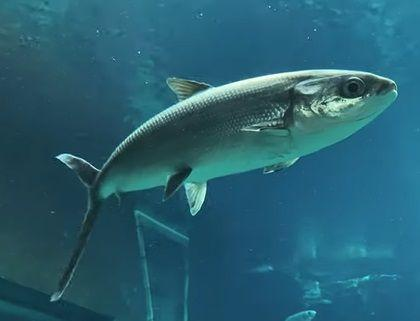Bangus: (52, 68, 401, 301)
